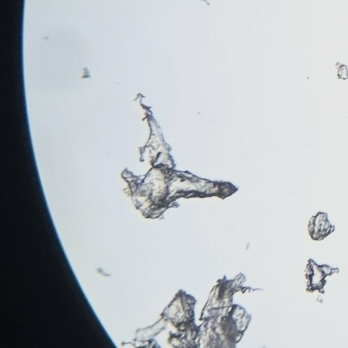microplastic: (120, 93, 239, 220), (121, 273, 263, 348), (304, 259, 339, 294), (308, 212, 335, 241), (335, 62, 347, 79), (82, 68, 91, 78), (316, 295, 322, 304)
